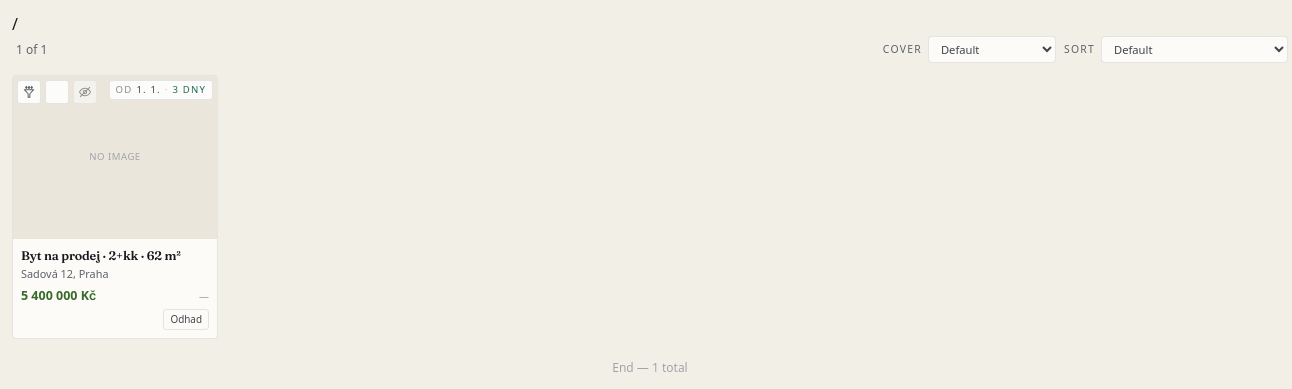
Test: <ListingCards> the card is not a link — its TITLE is › in the phone shell › navigates in place on a plain click of the title link
Step 1. Click the link "Byt na prodej · 2+kk · 62 m²" → (101, 256), box [21,248,181,263]
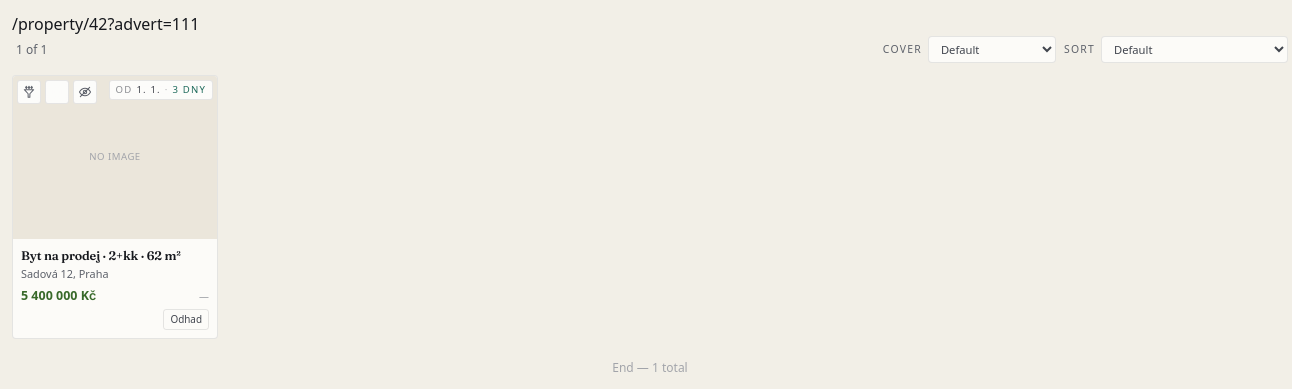
Now the text with test id "loc" reads "/property/42?advert=111", box [12,13,199,35]
